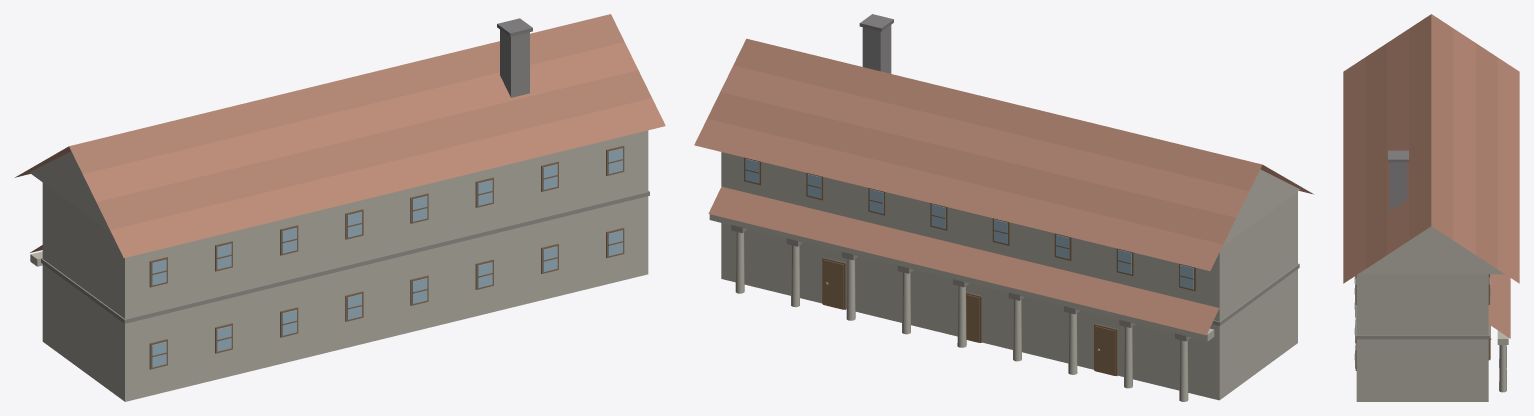
File: refectory.glb
3 renders of one model, left to right at view 1: azimuth 30°, elevation 25°; view 2: azimuth 150°, elevation 25°; view 3: azimuth 270°, elevation 25°, orthographic. The views are drawn at different scales.
Parts seen in each view (by area): view 1: refectory; view 2: refectory; view 3: refectory.
Boxes of the visible parts, x1,y1,x2,y2 form: refectory: (15, 14, 665, 401); refectory: (694, 14, 1313, 401); refectory: (1343, 14, 1519, 401).
Size of the model in its own units: 22.8 by 10.27 by 8.
